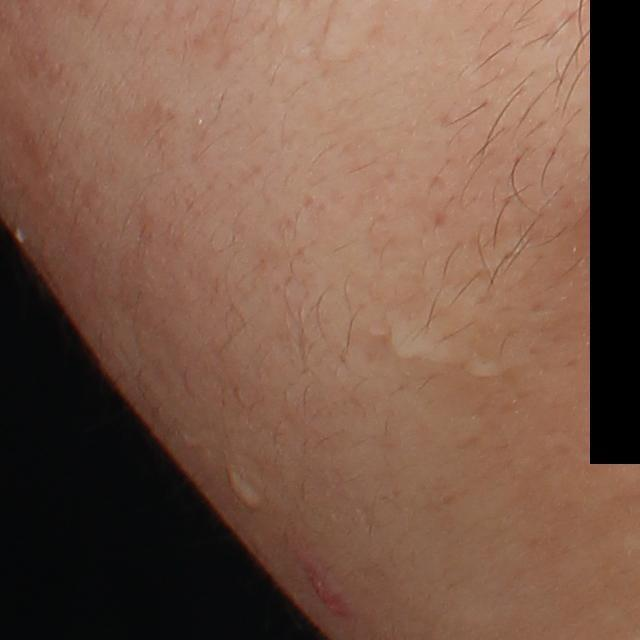papule: (302, 554, 354, 626)
